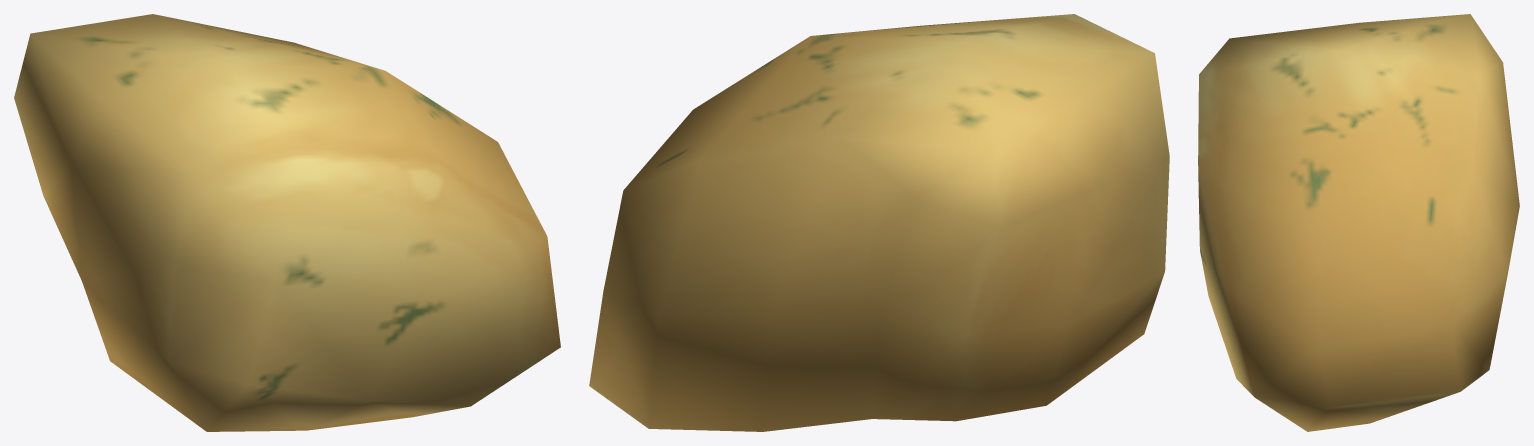
Rendered from potatowithgreen.fbx.
The picture shows the model from 3 angles, left to right: view 1: azimuth 30°, elevation 25°; view 2: azimuth 150°, elevation 25°; view 3: azimuth 270°, elevation 25°; orthographic projection. The views are drawn at different scales.
Visible parts, largest first — view 1: potatowithgreen; view 2: potatowithgreen; view 3: potatowithgreen.
Part boxes in pixels (bbox=[...]): potatowithgreen: bbox=[14, 14, 560, 431]; potatowithgreen: bbox=[589, 14, 1169, 431]; potatowithgreen: bbox=[1198, 14, 1519, 431].
Bounding box in the file's own units: 6.12 × 4.92 × 5.
